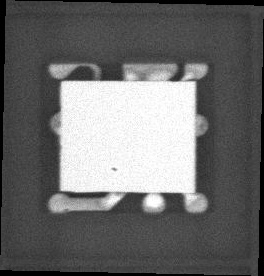DIE_INK: (104, 174, 114, 180)
